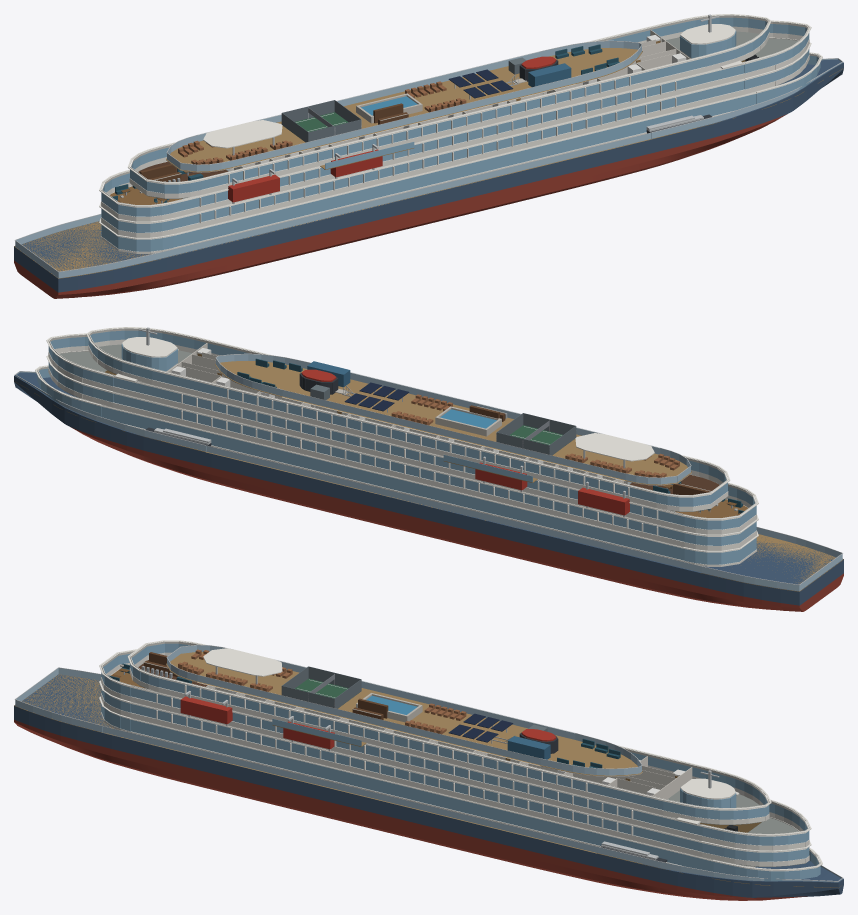
The model's file is vessel.glb.
3 views of the same model, one above another, from view 1: azimuth 30°, elevation 25°; view 2: azimuth 150°, elevation 25°; view 3: azimuth 330°, elevation 25° (orthographic).
Visible parts, largest first — view 1: vessel (×18); view 2: vessel (×19); view 3: vessel (×18).
Part boxes in pixels (x1,y1,x2,y2): vessel (×18): (14,14,843,298); vessel (×19): (14,327,843,611); vessel (×18): (14,640,843,900).
Size of the model in its own units: 141 by 19.42 by 16.8.
